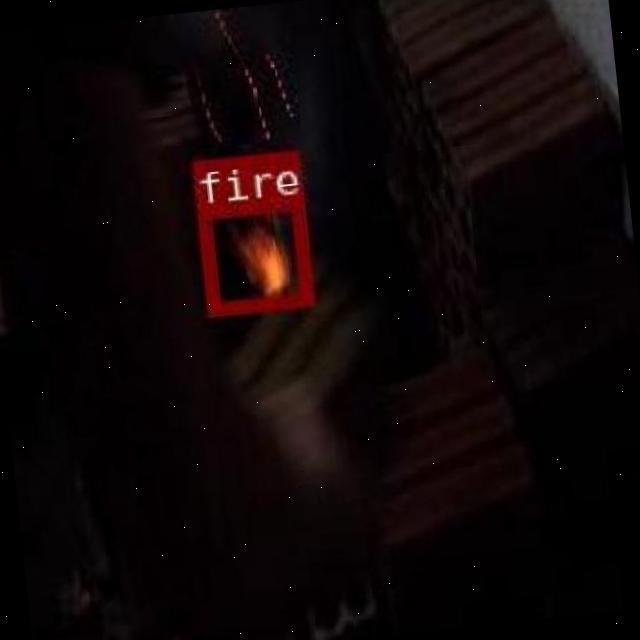fire: (195, 194, 311, 314)
